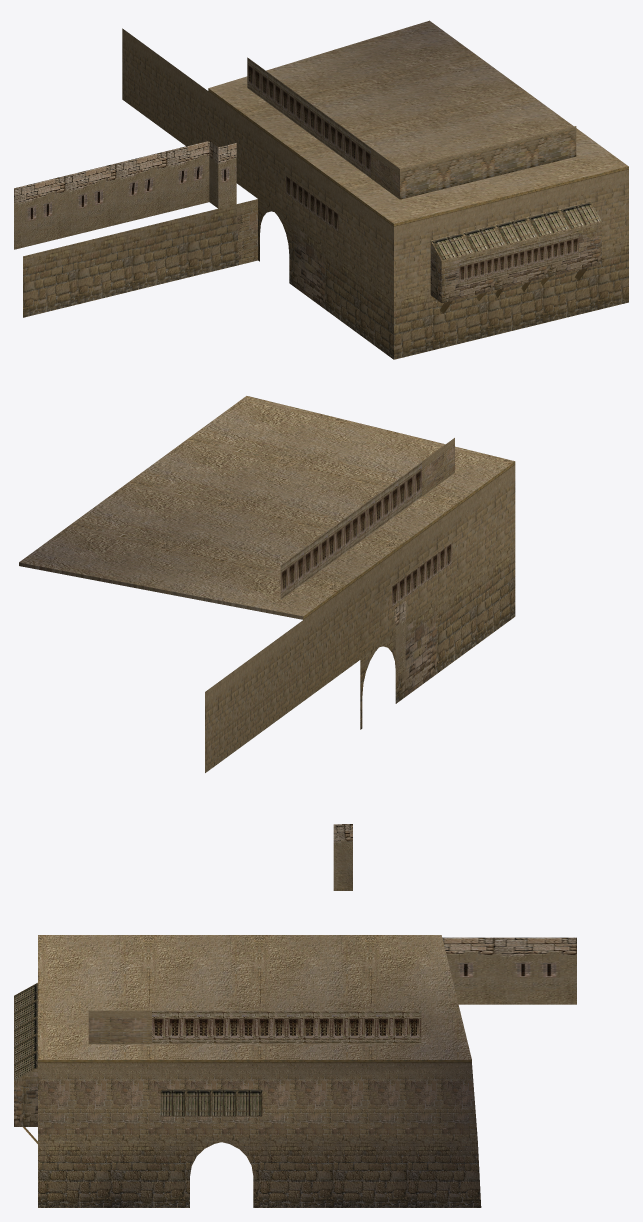
The model's file is M7Z4_FortWall1_A.glb.
The picture shows the model from 3 angles, top to bottom: view 1: azimuth 30°, elevation 25°; view 2: azimuth 150°, elevation 25°; view 3: azimuth 270°, elevation 25°; orthographic projection. The views are drawn at different scales.
Parts seen in each view (by area): view 1: M7Z4_FORTWALL1_A; view 2: M7Z4_FORTWALL1_A; view 3: M7Z4_FORTWALL1_A.
Part boxes in pixels (box(x1,y1,x2,y2)): M7Z4_FORTWALL1_A: box(14, 20, 628, 359); M7Z4_FORTWALL1_A: box(19, 396, 515, 772); M7Z4_FORTWALL1_A: box(14, 824, 576, 1207).
Bounding box in the file's own units: 32.01 × 10.84 × 33.3.
Materials: 10 (10 with a texture image).
